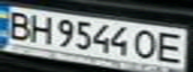4: (109, 24, 133, 56), (90, 21, 112, 55)
5: (72, 19, 93, 52)
9: (51, 16, 78, 48)
B: (3, 8, 36, 41)
E: (154, 29, 190, 64)
H: (24, 11, 57, 44)
O: (130, 28, 163, 61)
